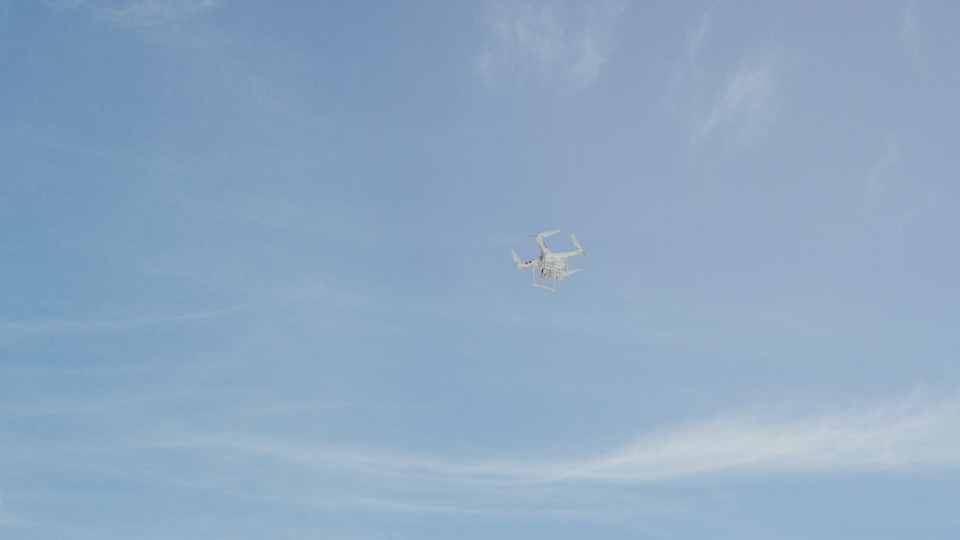drone: (511, 227, 590, 295)
